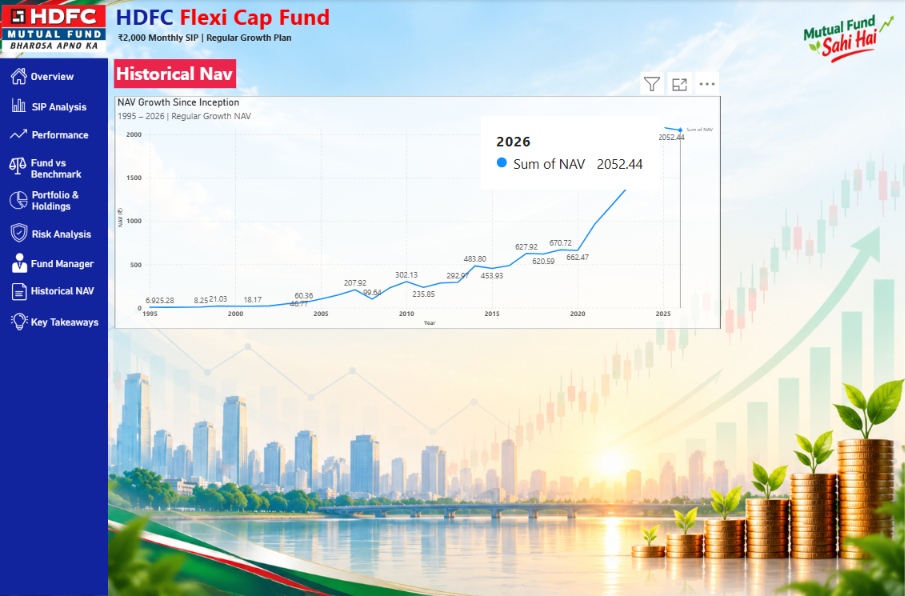

The page's visual inventory and layout, read from the dashboard file:
{"tool":"powerbi","page":{"name":"Historical Nav","canvas":[2200,1450],"ordinal":7},"visuals":[{"type":"textbox","box":[277.8,145.2,296.5,70],"z":0},{"type":"shape","box":[0,143.1,262.4,1306.2],"z":1000},{"type":"image","box":[18.4,163.9,53.3,49.2],"z":2000},{"type":"image","box":[16.4,235.6,59.4,43],"z":3000},{"type":"image","box":[20.5,297.1,51.2,61.5],"z":4000},{"type":"image","box":[12.3,377,61.5,57.4],"z":5000},{"type":"image","box":[16.4,461,55.3,53.3],"z":6000},{"type":"image","box":[16.4,532.7,59.4,69.7],"z":7000},{"type":"image","box":[18.4,612.6,57.4,57.4],"z":8000},{"type":"image","box":[22.5,686.3,55.3,51.2],"z":9000},{"type":"image","box":[22.5,756,51.2,55.3],"z":10000},{"type":"actionButton","title":"Performance","box":[77.6,315.6,167.7,61.3],"z":11000},{"type":"actionButton","title":"Fund vs Benchmark","box":[76.2,383.3,169.4,76.2],"z":12000},{"type":"actionButton","title":"Portfolio &  Holdings","box":[77.9,461,184.4,71.7],"z":13000},{"type":"actionButton","title":"Risk Analysis","box":[77.6,555.5,167.7,64.9],"z":14000},{"type":"actionButton","title":"SIP Analysis","box":[77.9,247.9,168,61.5],"z":15000},{"type":"actionButton","title":"Fund Manager","box":[75.8,629,172.1,57.4],"z":16000},{"type":"actionButton","title":"Historical NAV","box":[75.8,694.5,178.2,79.9],"z":17000},{"type":"actionButton","title":"Key Takeaways","box":[75.8,770.3,188.5,63.5],"z":18000},{"type":"textbox","box":[262.5,0,557.5,81.7],"z":19000},{"type":"textbox","box":[282.5,72.5,457.5,38.8],"z":20000},{"type":"image","box":[0,0,262.1,142.8],"z":21000},{"type":"lineChart","title":"NAV Growth Since Inception","fields":{"Category":["Annual_History_1995_2026.Year"],"Y":["Sum(Annual_History_1995_2026.NAV)"]},"box":[278.3,236.6,1471.2,564.6],"z":22000},{"type":"actionButton","title":"Overview","box":[75.5,173,133.2,63.6],"z":23000}]}

Visuals, with their boxes in screenshot pixels (x1, y1, x2, y2), scaled from the page's 2200x1450 canvas onto the 905x596 screenshot:
textbox: (x1=114, y1=60, x2=236, y2=88)
shape: (x1=0, y1=59, x2=108, y2=595)
image: (x1=8, y1=67, x2=29, y2=88)
image: (x1=7, y1=97, x2=31, y2=115)
image: (x1=8, y1=122, x2=29, y2=147)
image: (x1=5, y1=155, x2=30, y2=179)
image: (x1=7, y1=189, x2=29, y2=211)
image: (x1=7, y1=219, x2=31, y2=248)
image: (x1=8, y1=252, x2=31, y2=275)
image: (x1=9, y1=282, x2=32, y2=303)
image: (x1=9, y1=311, x2=30, y2=333)
"Performance" actionButton: (x1=32, y1=130, x2=101, y2=155)
"Fund vs Benchmark" actionButton: (x1=31, y1=158, x2=101, y2=189)
"Portfolio &  Holdings" actionButton: (x1=32, y1=189, x2=108, y2=219)
"Risk Analysis" actionButton: (x1=32, y1=228, x2=101, y2=255)
"SIP Analysis" actionButton: (x1=32, y1=102, x2=101, y2=127)
"Fund Manager" actionButton: (x1=31, y1=259, x2=102, y2=282)
"Historical NAV" actionButton: (x1=31, y1=285, x2=104, y2=318)
"Key Takeaways" actionButton: (x1=31, y1=317, x2=109, y2=343)
textbox: (x1=108, y1=0, x2=337, y2=34)
textbox: (x1=116, y1=30, x2=304, y2=46)
image: (x1=0, y1=0, x2=108, y2=59)
"NAV Growth Since Inception" lineChart: (x1=114, y1=97, x2=720, y2=329)
"Overview" actionButton: (x1=31, y1=71, x2=86, y2=97)
